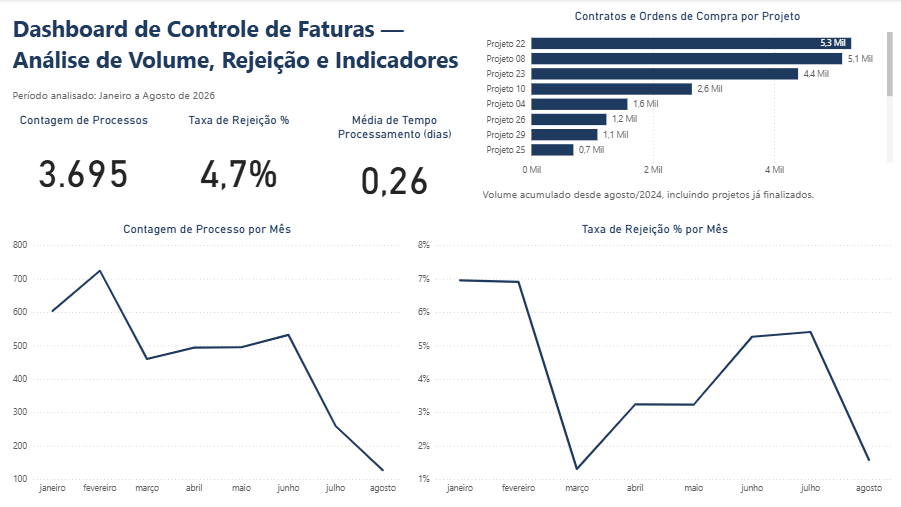

This screenshot's page, from the dashboard's own definition file:
{"tool":"powerbi","page":{"name":"Visão Geral","canvas":[1280,720],"ordinal":0},"visuals":[{"type":"cardVisual","title":"Contagem de Processos","fields":{"Data":["Notas_Faturas.Total Processos (Texto)"]},"box":[15.5,160.9,211.8,144],"z":0},{"type":"cardVisual","title":"Taxa de Rejeição %","fields":{"Data":["Notas_Faturas.Taxa de Rejeição %"]},"box":[237.2,160.9,206.1,144],"z":1000},{"type":"cardVisual","title":"Média de Tempo Processamento (dias)","fields":{"Data":["Avg(Notas_Faturas.Tempo Processamento (dias))"]},"box":[453.2,160.9,213.2,144],"z":2000},{"type":"lineChart","fields":{"Y":["CountNonNull(Notas_Faturas.Processo)"],"Category":["Notas_Faturas.Data Recebimento.Variation.Hierarquia de datas.Ano","Notas_Faturas.Data Recebimento.Variation.Hierarquia de datas.Trimestre","Notas_Faturas.Data Recebimento.Variation.Hierarquia de datas.Mês","Notas_Faturas.Data Recebimento.Variation.Hierarquia de datas.Dia"]},"box":[15.1,314.1,559.4,393.1],"z":3000},{"type":"lineChart","fields":{"Category":["Notas_Faturas.Data Recebimento.Variation.Hierarquia de datas.Ano","Notas_Faturas.Data Recebimento.Variation.Hierarquia de datas.Trimestre","Notas_Faturas.Data Recebimento.Variation.Hierarquia de datas.Mês","Notas_Faturas.Data Recebimento.Variation.Hierarquia de datas.Dia"],"Y":["Notas_Faturas.Taxa de Rejeição %"]},"box":[587.9,314.1,680.3,393.1],"z":4000},{"type":"barChart","title":"Contratos e Ordens de Compra por Projeto","fields":{"Category":["Contratos.Projeto"],"Y":["Sum(Contratos.Qtde Total Contratos e OC)"]},"box":[679.1,14.1,588.7,245.6],"z":5000},{"type":"textbox","box":[15.1,13.4,651.8,105.8],"z":6000},{"type":"textbox","box":[679.1,259.8,588.7,35.3],"z":7000},{"type":"textbox","box":[15.5,120,650.8,31.1],"z":8000}]}

Visuals, with their boxes in screenshot pixels (x1, y1, x2, y2), scaled from the page's 1280x720 canvas onto the 901x507 screenshot:
"Contagem de Processos" cardVisual: (x1=11, y1=113, x2=160, y2=215)
"Taxa de Rejeição %" cardVisual: (x1=167, y1=113, x2=312, y2=215)
"Média de Tempo Processamento (dias)" cardVisual: (x1=319, y1=113, x2=469, y2=215)
lineChart - CountNonNull(Notas_Faturas.Processo) x Notas_Faturas.Data Recebimento.Variation.Hierarquia de datas.Ano: (x1=11, y1=221, x2=404, y2=498)
lineChart - Notas_Faturas.Data Recebimento.Variation.Hierarquia de datas.Ano x Notas_Faturas.Data Recebimento.Variation.Hierarquia de datas.Trimestre: (x1=414, y1=221, x2=893, y2=498)
"Contratos e Ordens de Compra por Projeto" barChart: (x1=478, y1=10, x2=892, y2=183)
textbox: (x1=11, y1=9, x2=469, y2=84)
textbox: (x1=478, y1=183, x2=892, y2=208)
textbox: (x1=11, y1=84, x2=469, y2=106)
